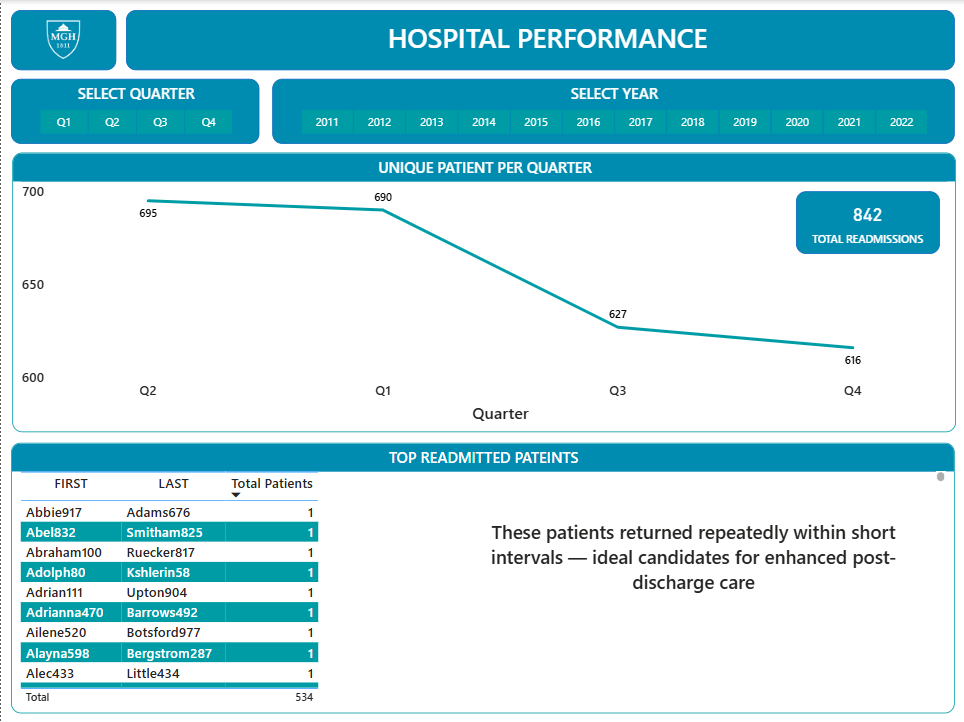

The page's visual inventory and layout, read from the dashboard file:
{"tool":"powerbi","page":{"name":"Patient Behavior Analysis","canvas":[960,720],"ordinal":2},"visuals":[{"type":"lineChart","title":"UNIQUE PATIENT PER QUARTER","fields":{"Category":["encounters.Quarter"],"Y":["Dashboard Measures.Unique Patients per Quarter"]},"box":[11.2,151.8,939.2,278.6],"z":0},{"type":"image","box":[10,10,104.5,59.7],"z":1000},{"type":"textbox","box":[124.4,10,824.7,59.7],"z":2000},{"type":"card","fields":{"Values":["Dashboard Measures.Total Patients"]},"box":[791.2,190.3,143.1,62.2],"z":3000},{"type":"tableEx","title":"TOP READMITTED PATEINTS","fields":{"Values":["patients.FIRST","patients.LAST","Dashboard Measures.Total Patients"]},"box":[10,440.4,939.2,269.9],"z":4000},{"type":"slicer","title":"SELECT YEAR","fields":{"Values":["encounters.Year"]},"box":[269.9,78.4,679.2,64.7],"z":5000},{"type":"slicer","title":"SELECT QUARTER","fields":{"Values":["encounters.Quarter"]},"box":[10,78.4,247.5,64.7],"z":6000},{"type":"textbox","box":[481.4,511.3,415.5,130.6],"z":6001}]}

Visuals, with their boxes in screenshot pixels (x1, y1, x2, y2), scaled from the page's 960x720 canvas onto the 964x722 screenshot:
"UNIQUE PATIENT PER QUARTER" lineChart: bbox=[11, 152, 954, 432]
image: bbox=[10, 10, 115, 70]
textbox: bbox=[125, 10, 953, 70]
card - Dashboard Measures.Total Patients: bbox=[794, 191, 938, 253]
"TOP READMITTED PATEINTS" tableEx: bbox=[10, 442, 953, 712]
"SELECT YEAR" slicer: bbox=[271, 79, 953, 143]
"SELECT QUARTER" slicer: bbox=[10, 79, 259, 143]
textbox: bbox=[483, 513, 901, 644]
